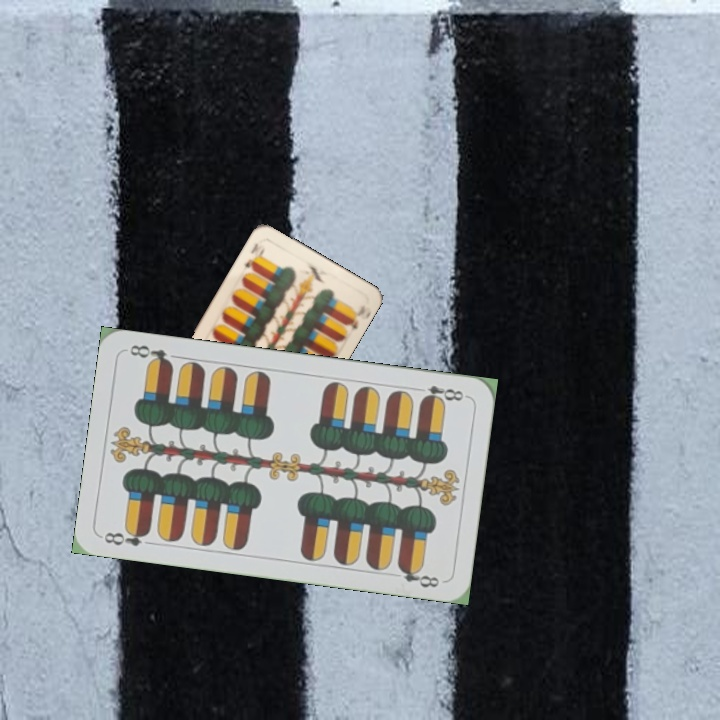E10: (240, 239, 268, 273)
E8: (411, 381, 469, 406), (100, 524, 153, 549)
